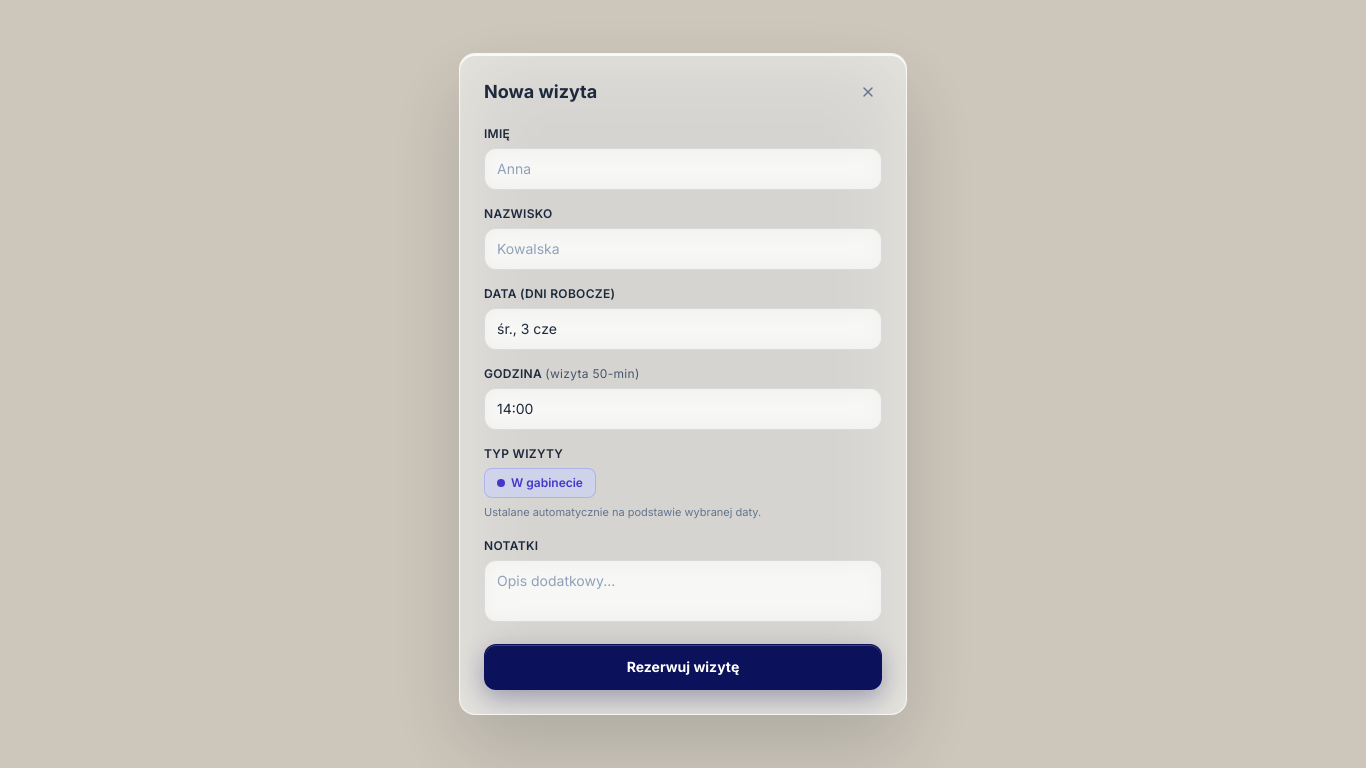
AddTaskModal › time options › auto-sets visit type from date for guest booking
This screenshot has width=1366, height=768.
Check: the text "W gabinecie" is shown, box [484, 468, 596, 498]
Check: the button "online" is not shown
Select "czw., 4 cze" in the dropdown labelled "Data (dni robocze)" at [683, 329], box [484, 308, 882, 350]
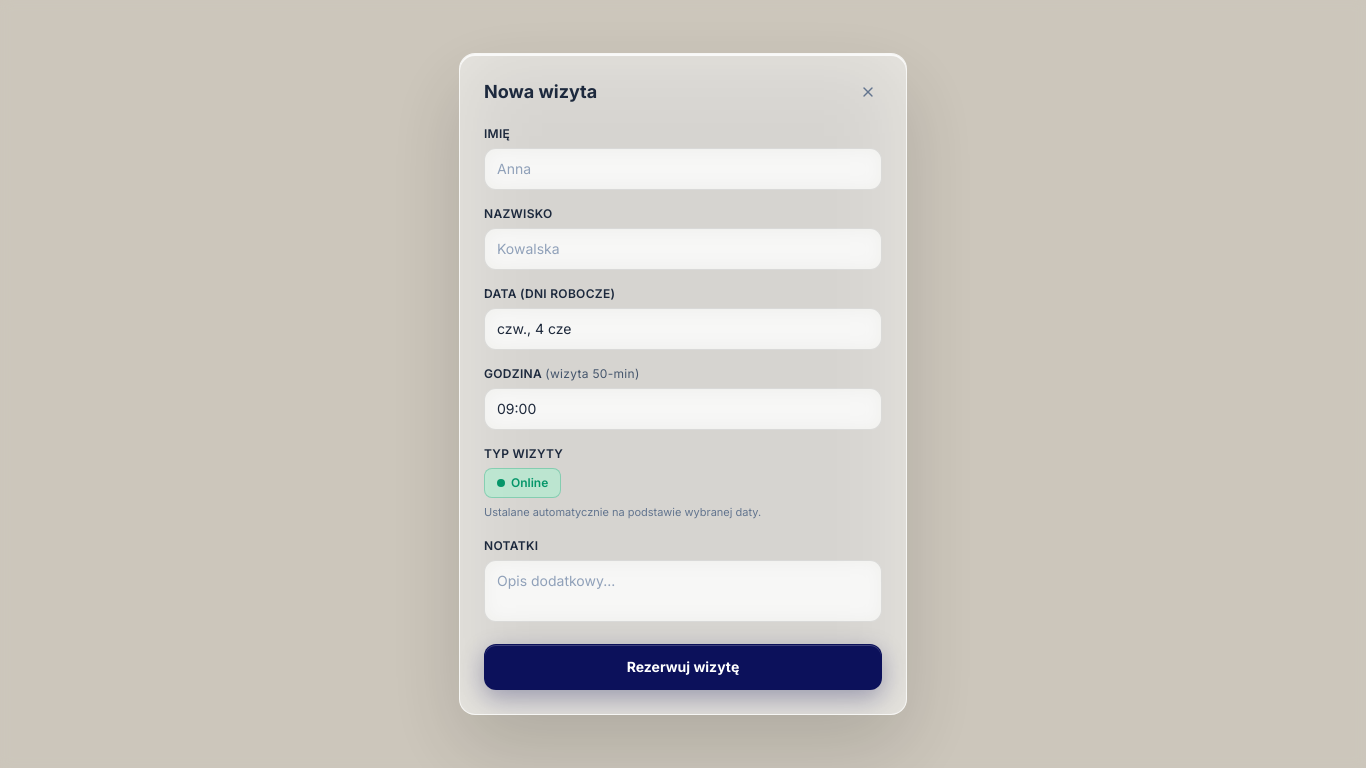
Check: the text "Online" is shown, box [484, 468, 561, 498]
Check: the text "W gabinecie" is gone
